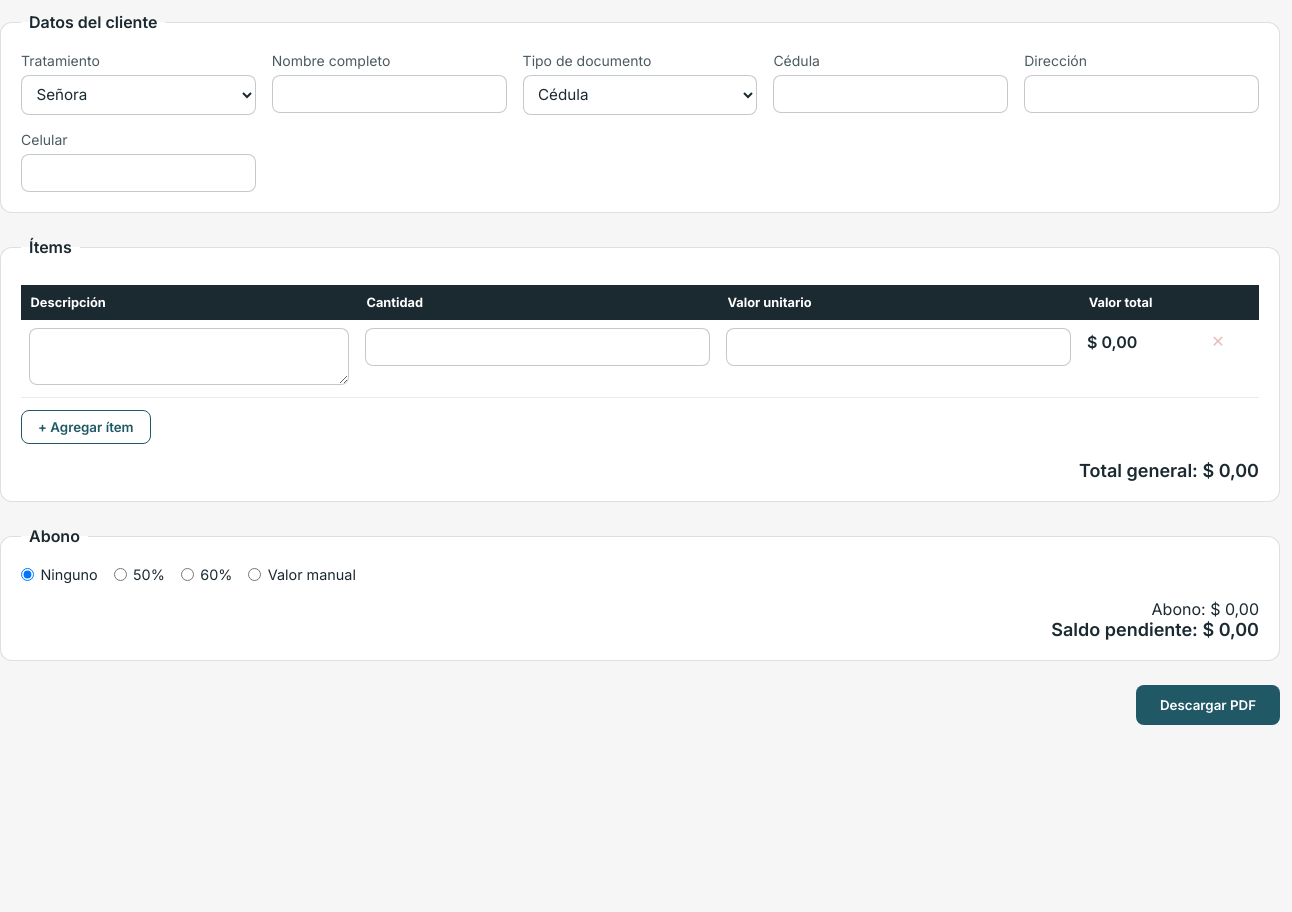
Test case: CotizacionForm › calcula el total de la fila y el total general en vivo
The image size is (1292, 912).
Type "2" into the number field named "Cantidad del ítem 1" at (537, 347), box [365, 328, 710, 366]
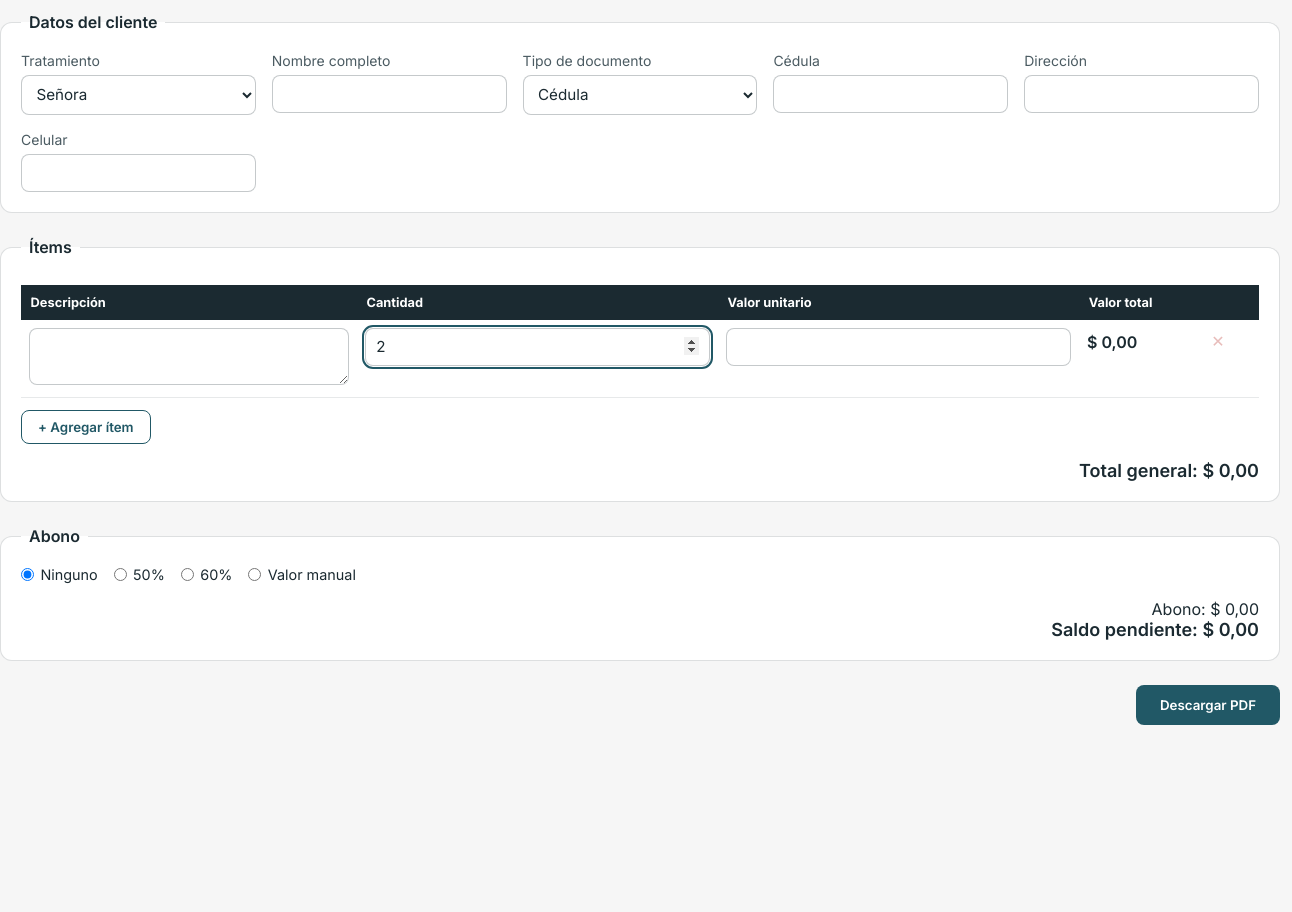
Type "100" into the number field named "Valor unitario del ítem 1" at (899, 347), box [726, 328, 1071, 366]
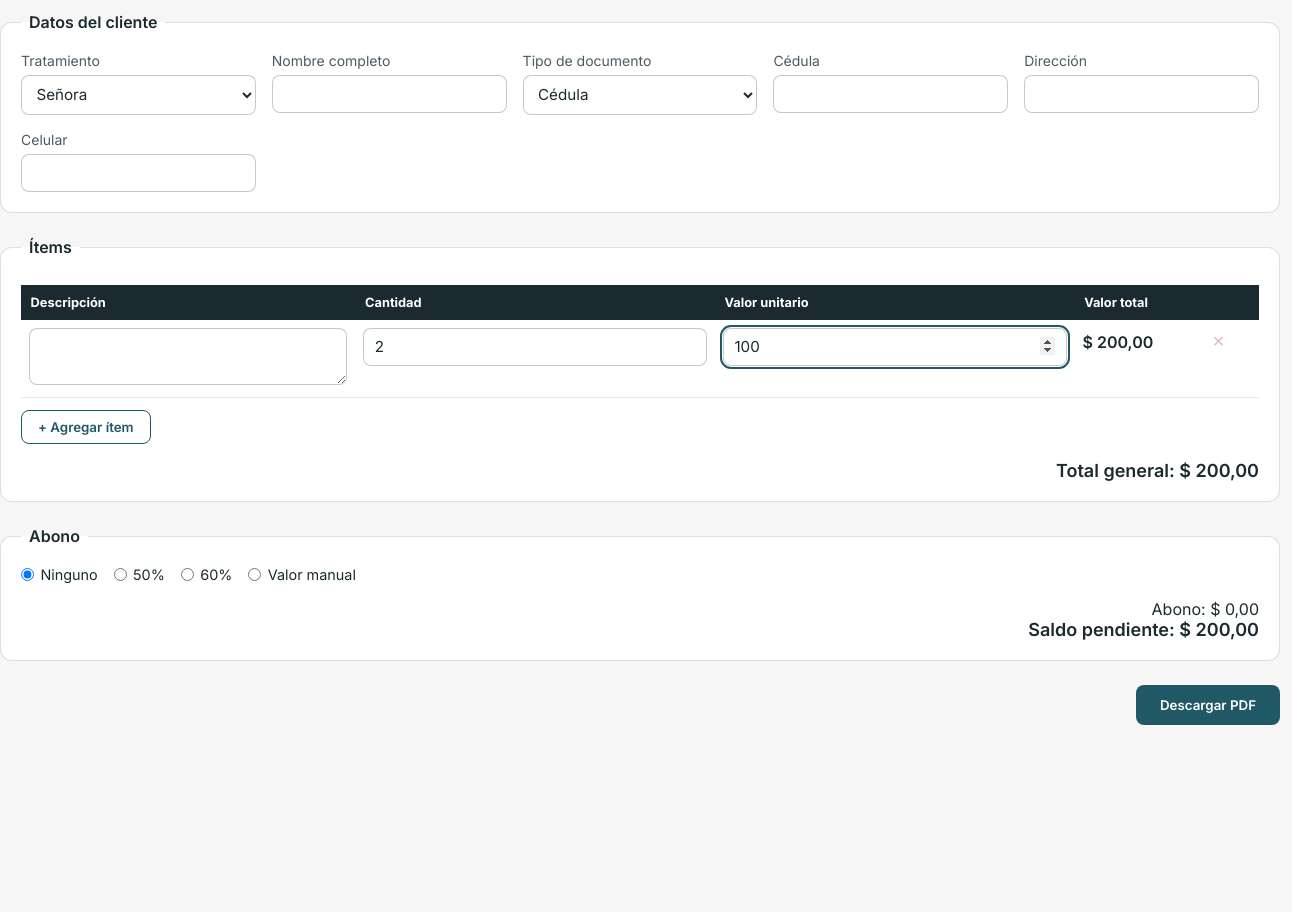
Expected: the text "Total general: $ 200,00" is shown, [1056, 460, 1259, 481]
